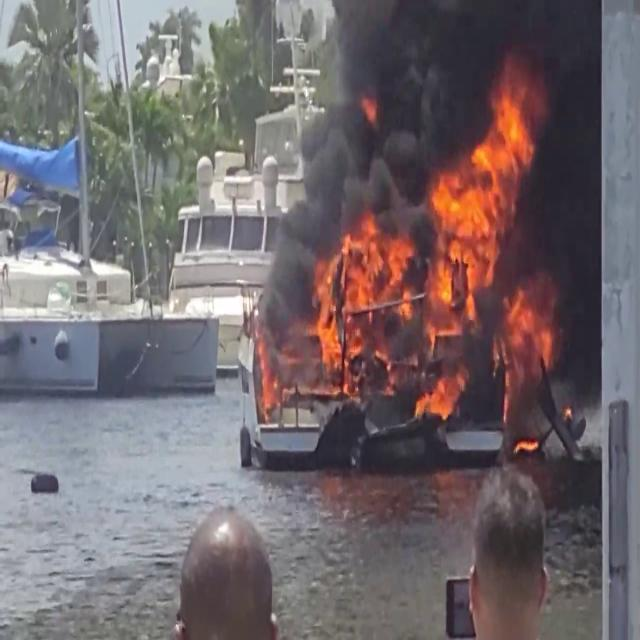Fire: (308, 94, 554, 412)
Smoke: (270, 0, 598, 231)
